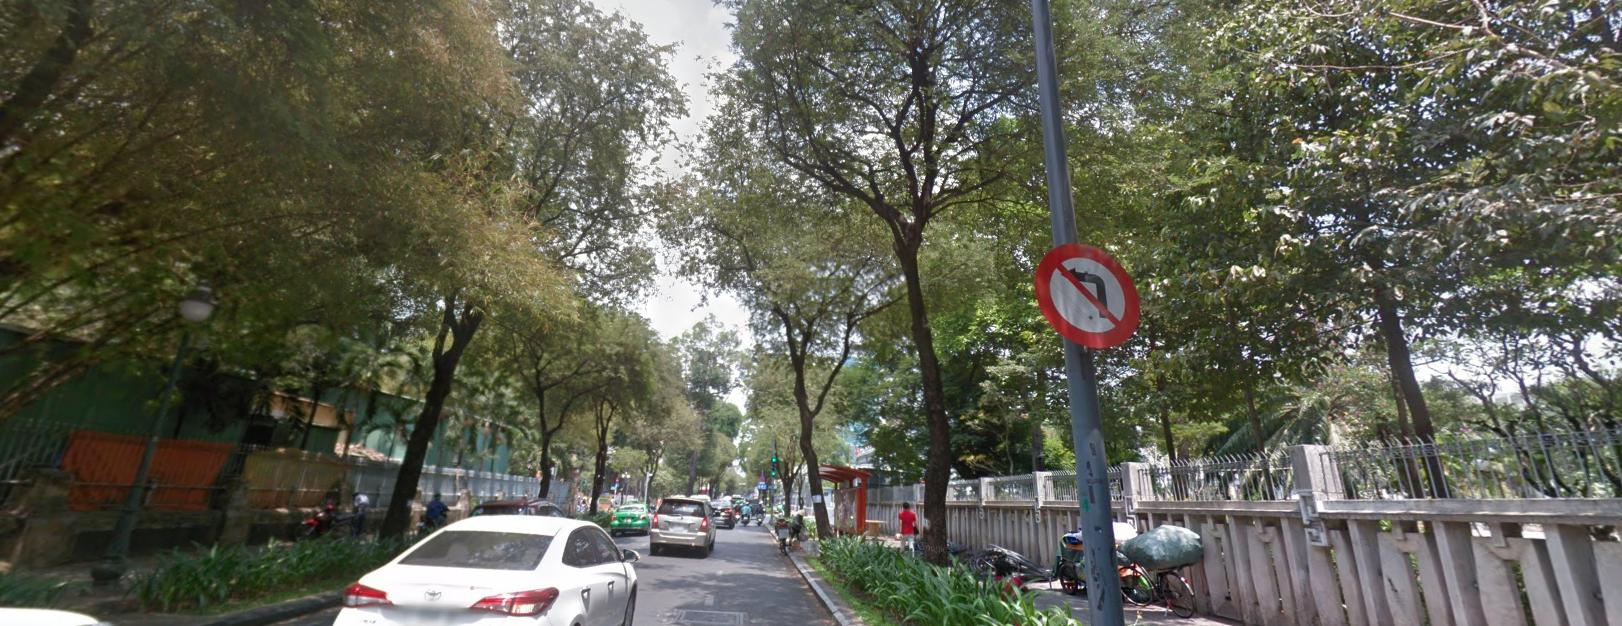Cam dung va do: (758, 473, 765, 480)
Cam re: (1032, 238, 1142, 347)
